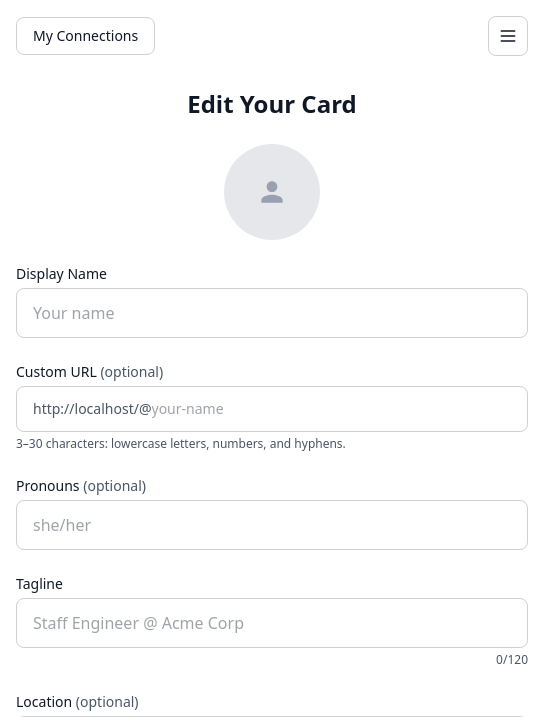
it: EditProfilePage custom URL slug › lowercases input and strips disallowed characters as the user types
In the field labelled "Custom URL (optional)": (339, 409) x1=152 y1=387 x2=527 y2=431, type "Ada Lovelace!!"
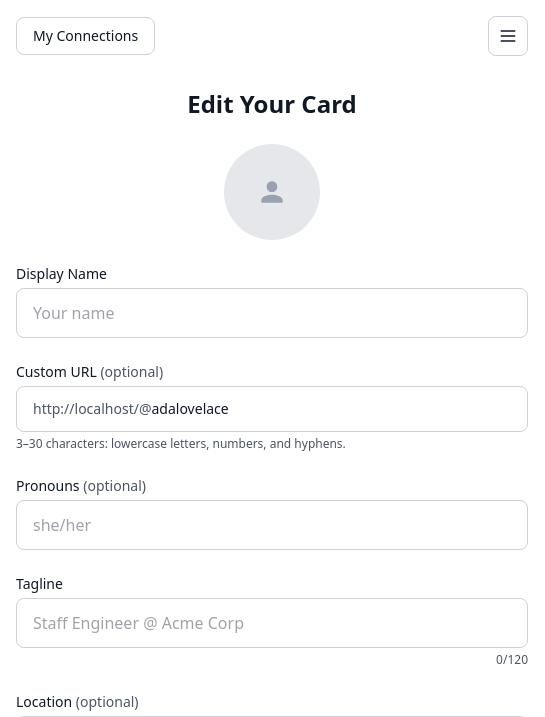
Check: the field showing "adalovelace" is shown, box x1=152 y1=387 x2=527 y2=431
